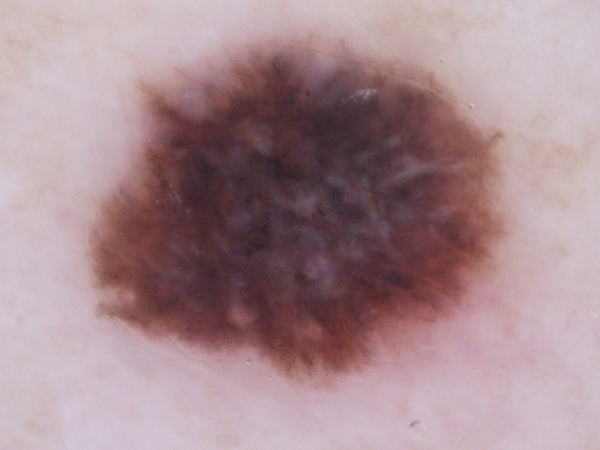Detected Lesion: (83, 30, 507, 389)
